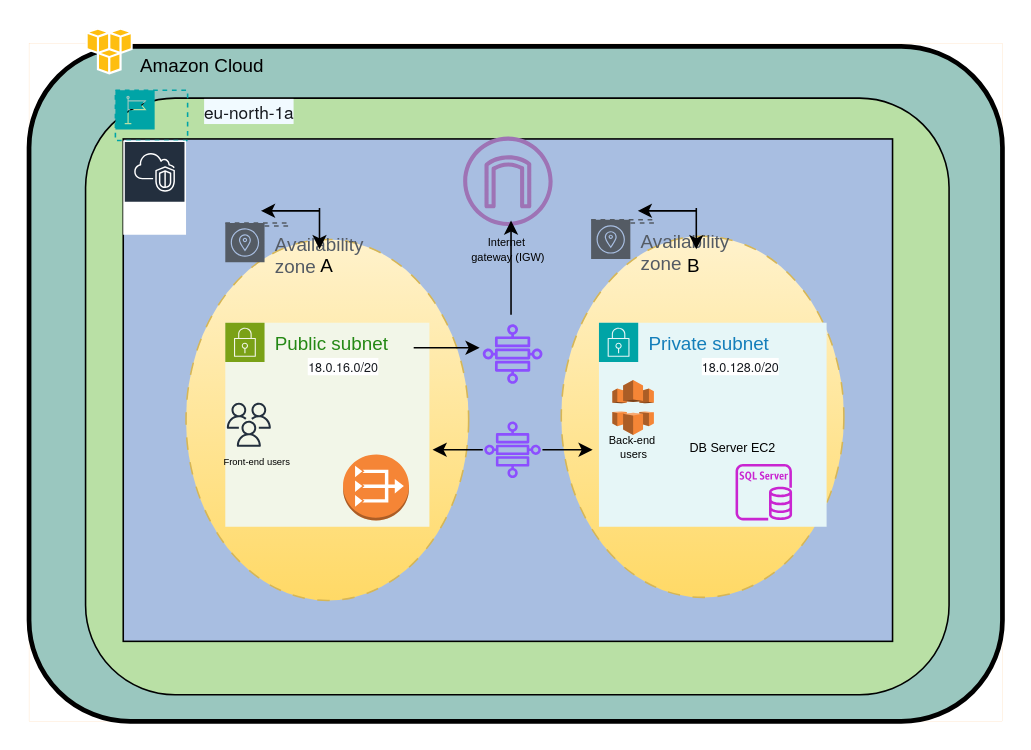
The diagram is 1031 pixels wide and 750 high, and some of its shapes have lost their labels. The box of each missing label's shape, as (x1, y1, x2, y2) in pixels:
Amazon VPC: (122, 139, 186, 235)
Region: (114, 89, 188, 141)
